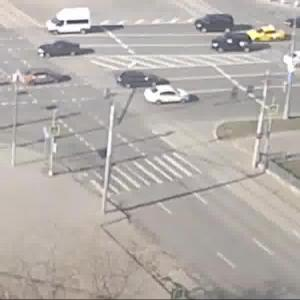car: (25, 37, 90, 63), (49, 5, 97, 35), (120, 70, 179, 93), (243, 24, 286, 46), (142, 87, 191, 106), (212, 31, 249, 55), (24, 69, 64, 88), (196, 15, 233, 35), (280, 50, 300, 65), (284, 20, 300, 27)
